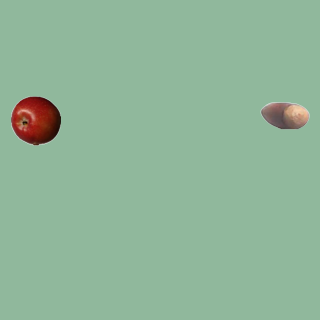Apple Braeburn: (10, 95, 60, 145)
Hazelnut: (259, 90, 309, 140)
